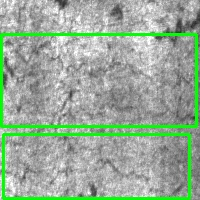crazing: (1, 34, 196, 126), (3, 134, 189, 198)
